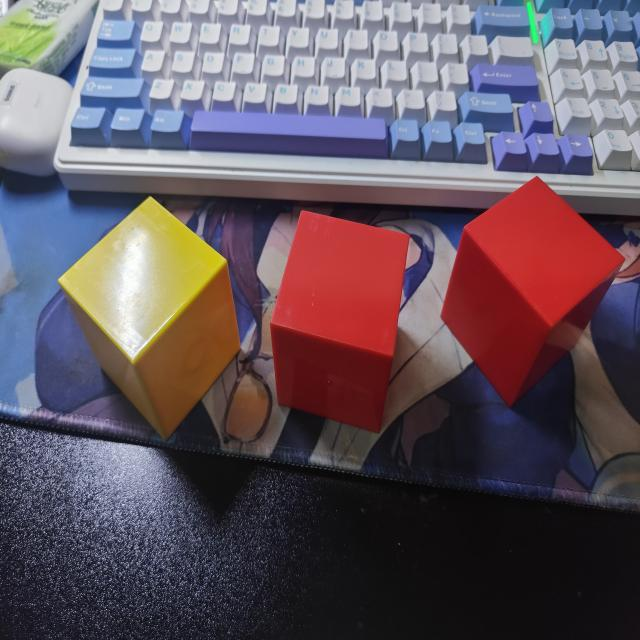red: (442, 178, 630, 410), (267, 210, 411, 439)
yellow: (56, 196, 244, 442)
